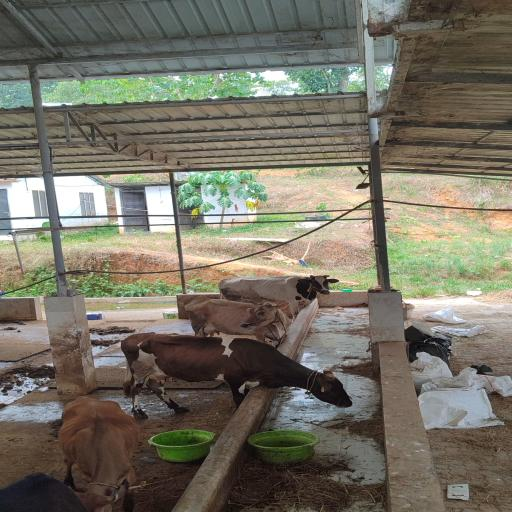cow-feeding: (121, 333, 352, 417)
cow-standing: (59, 397, 139, 511), (219, 276, 338, 318), (185, 300, 292, 346)
